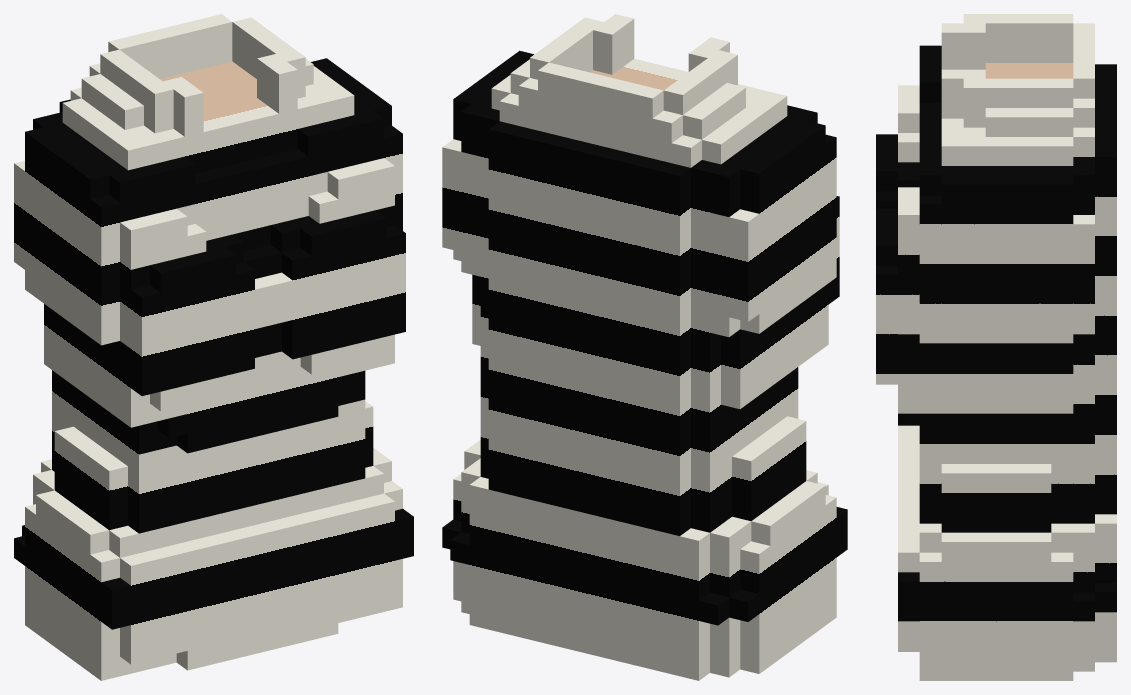
File: tors_2.dae
3 views of the same model, side by side, from view 1: azimuth 30°, elevation 25°; view 2: azimuth 150°, elevation 25°; view 3: azimuth 270°, elevation 25° (orthographic).
Visible parts, largest first — view 1: Content; view 2: Content; view 3: Content.
Boxes of the visible parts, left/top/right/bottom form: Content: left=14, top=14, right=413, bottom=680; Content: left=442, top=14, right=847, bottom=680; Content: left=876, top=14, right=1116, bottom=680.
Size of the model in its own units: 16 by 29 by 11.
Materials: 1 (1 with a texture image).
